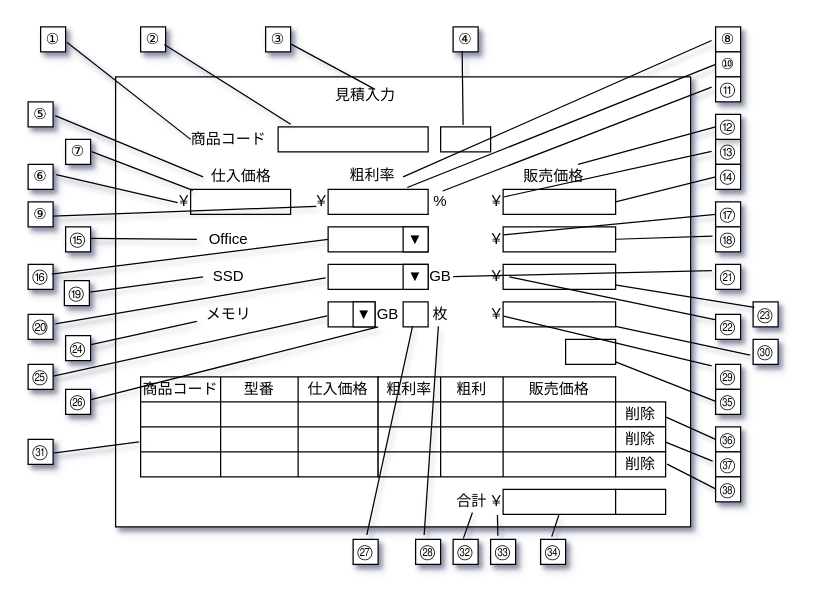
This 815x603 diagram has some shape labels left out. The centre of each missing label's shape, as x and y in pixels:
"入力" goes at point (465, 139).
"提示" goes at point (640, 501).
"追加" goes at point (590, 351).
